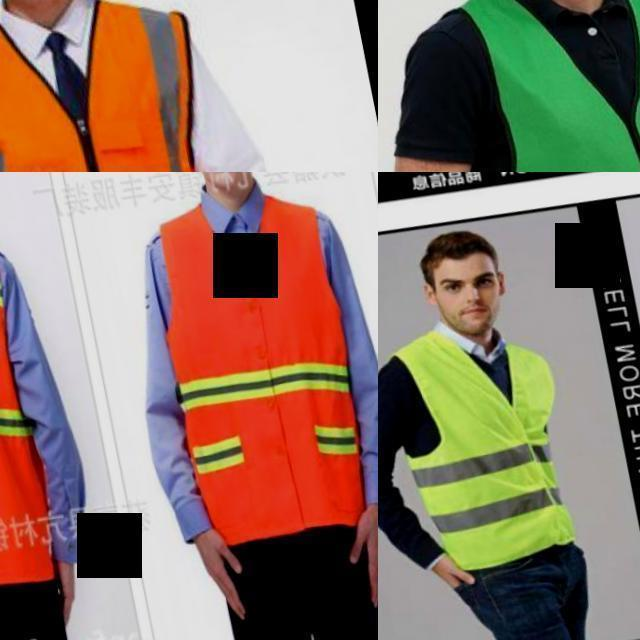vest: (132, 172, 378, 568), (397, 335, 586, 597), (0, 0, 258, 172), (416, 0, 640, 172), (0, 231, 65, 616)
